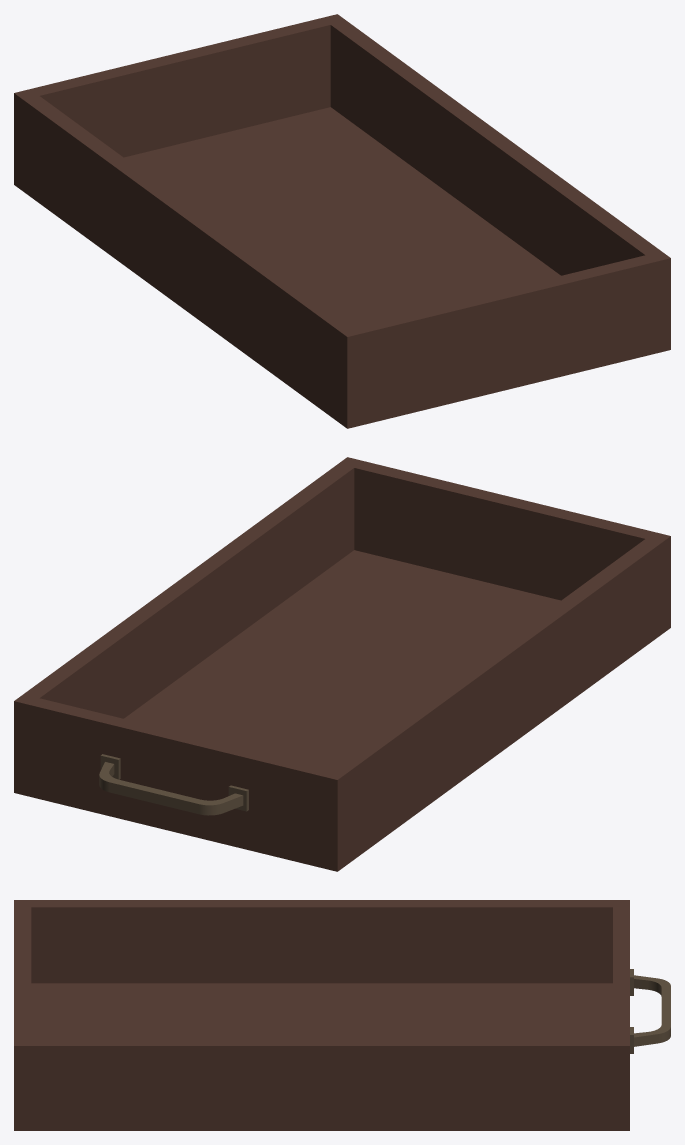
The model's file is SM_DeskDrawerSmall_001.fbx.
3 views of the same model, one above another, from view 1: azimuth 30°, elevation 25°; view 2: azimuth 150°, elevation 25°; view 3: azimuth 270°, elevation 25° (orthographic). The views are drawn at different scales.
Parts seen in each view (by area): view 1: pCube25; view 2: pCube25; view 3: pCube25.
Part boxes in pixels (bbox=[...]): pCube25: bbox=[14, 14, 670, 428]; pCube25: bbox=[14, 457, 670, 871]; pCube25: bbox=[14, 900, 670, 1130].
Bounding box in the file's own units: 28.83 × 7.82 × 54.87.
